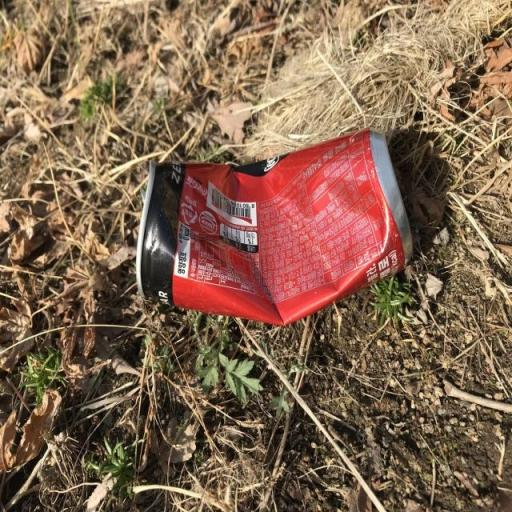metal: (102, 124, 454, 363)
